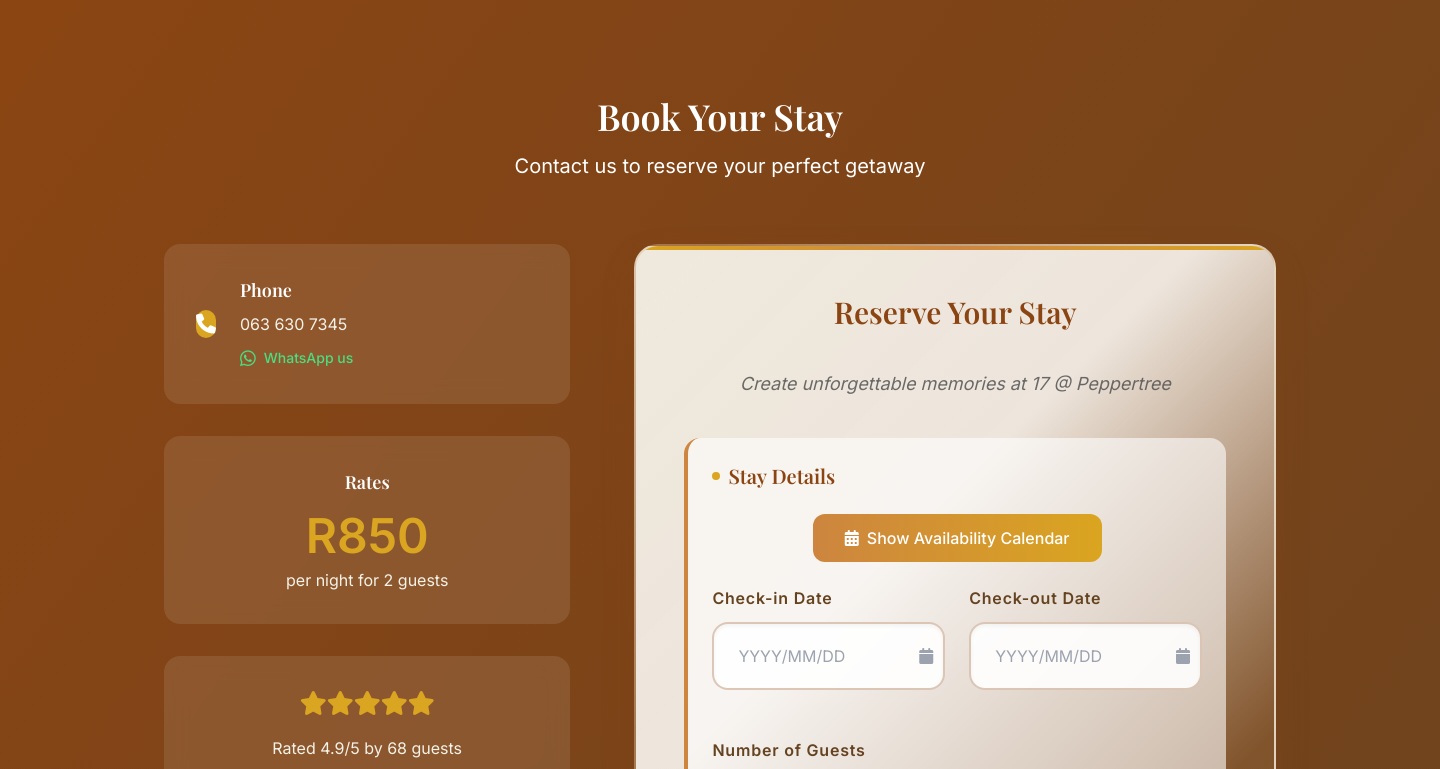
Contact Component › Form Input Handling › validation error messages display correctly
This screenshot has width=1440, height=769.
Note: Enter invalid format
Type "24/12" into the field labelled "Check-in Date" at (829, 656), box [712,622,945,690]
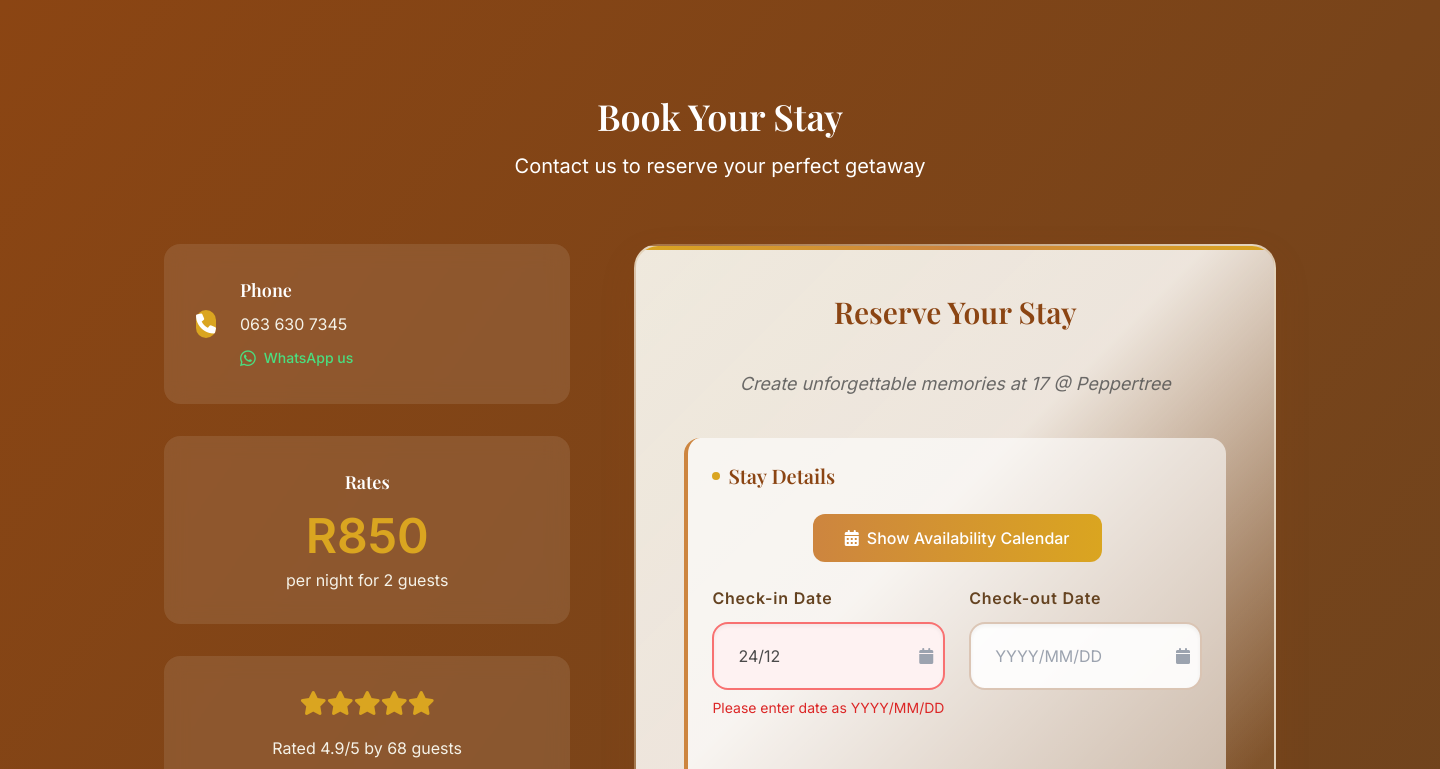
Expected: the text "Please enter date as YYYY/MM/DD" is shown, [712,698,945,718]
